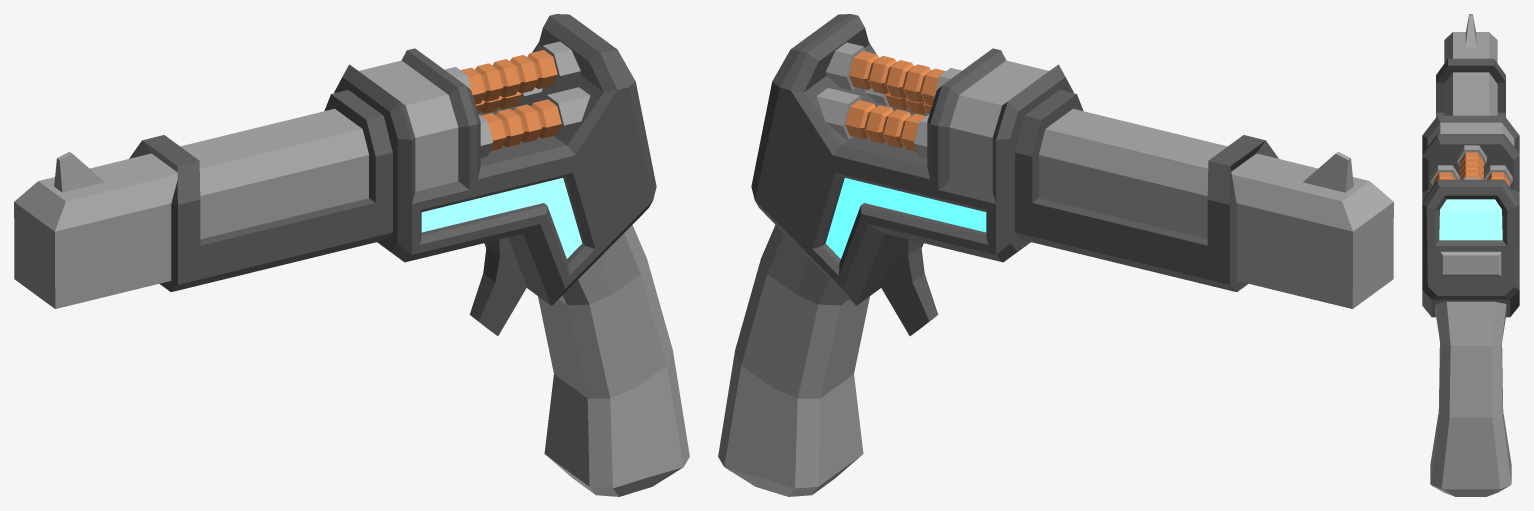
The model's file is SM_StunGun.fbx.
3 views of the same model, side by side, from view 1: azimuth 30°, elevation 25°; view 2: azimuth 150°, elevation 25°; view 3: azimuth 270°, elevation 25° (orthographic). The views are drawn at different scales.
Parts seen in each view (by area): view 1: SM_StunGun; view 2: SM_StunGun; view 3: SM_StunGun.
Boxes of the visible parts, x1,y1,x2,y2 form: SM_StunGun: (14,14,689,496); SM_StunGun: (718,14,1393,496); SM_StunGun: (1422,14,1519,496).
Bounding box in the file's own units: 23.74 × 16.45 × 4.82.
